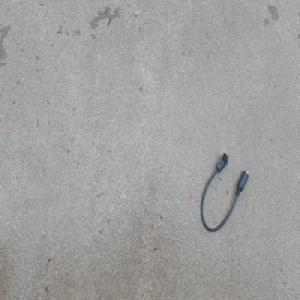Wire: (199, 151, 249, 233)
